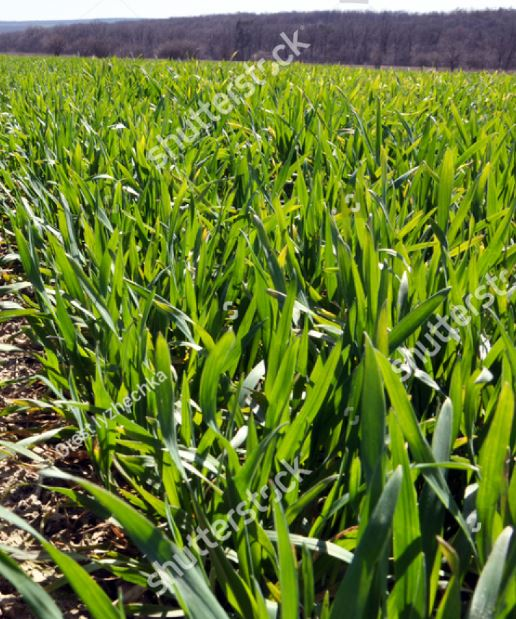Wheat: (72, 142, 478, 565)
